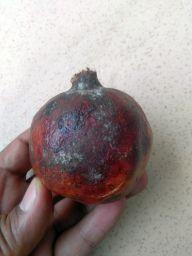pomegranate: (30, 68, 153, 203)
